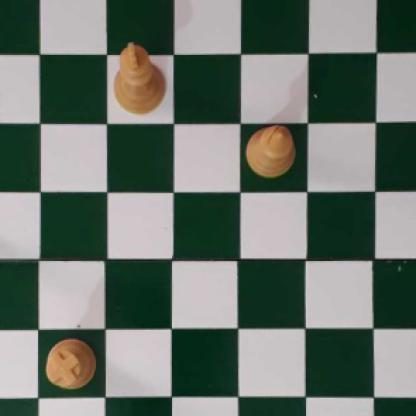white-bishop: (245, 124, 295, 178)
white-king: (111, 42, 166, 116)
white-rook: (44, 338, 97, 389)
